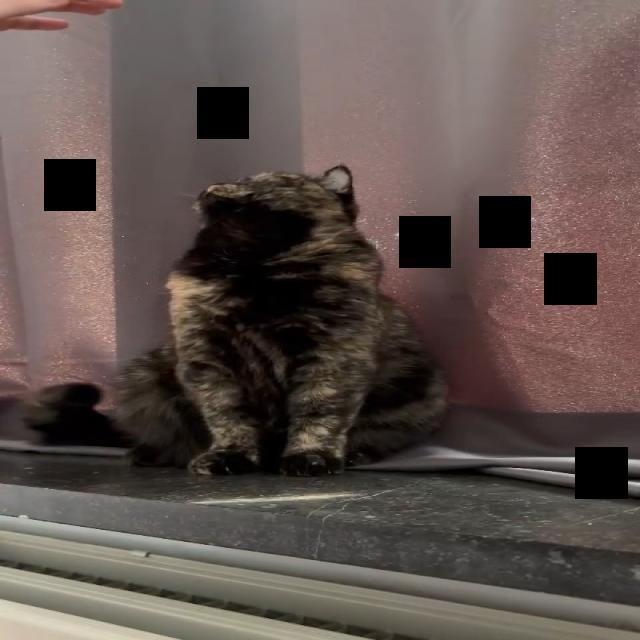authorized: (109, 163, 451, 477)
